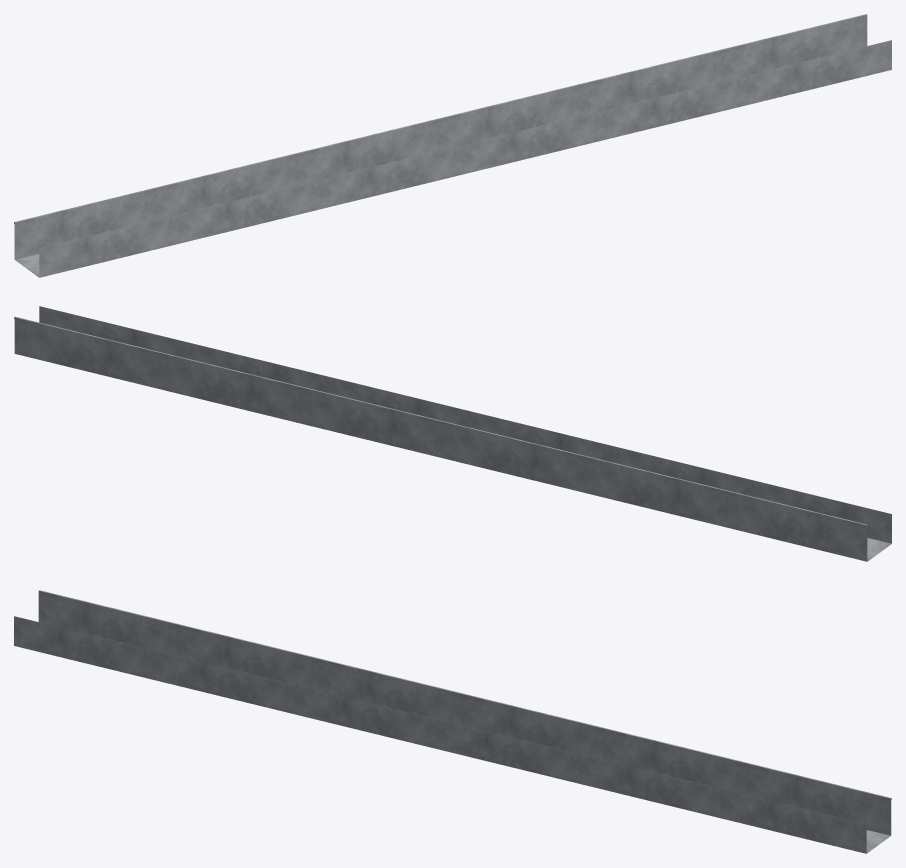
Rendered from COB-CAL-001.glb.
The picture shows the model from 3 angles, top to bottom: view 1: azimuth 30°, elevation 25°; view 2: azimuth 150°, elevation 25°; view 3: azimuth 330°, elevation 25°; orthographic projection.
Visible parts, largest first — view 1: COB-CAL-001_perfil; view 2: COB-CAL-001_perfil; view 3: COB-CAL-001_perfil.
Part boxes in pixels (x1,y1,x2,y2): COB-CAL-001_perfil: (14,14,891,277); COB-CAL-001_perfil: (14,306,891,561); COB-CAL-001_perfil: (14,590,891,853).
Size of the model in its own units: 3 by 0.1251 by 0.1549.
1 material, 1 textured.
